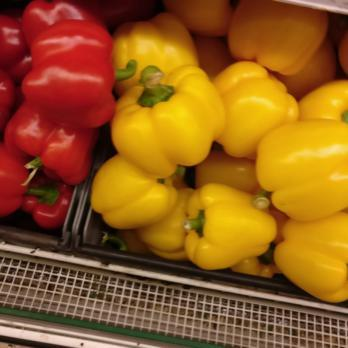Capsicum: (0, 1, 348, 303)
